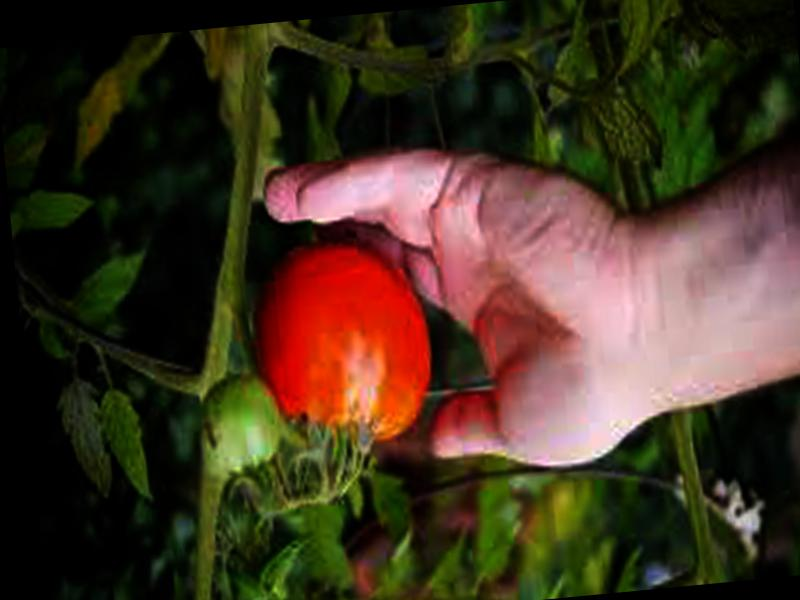Tomato: (242, 234, 440, 457)
